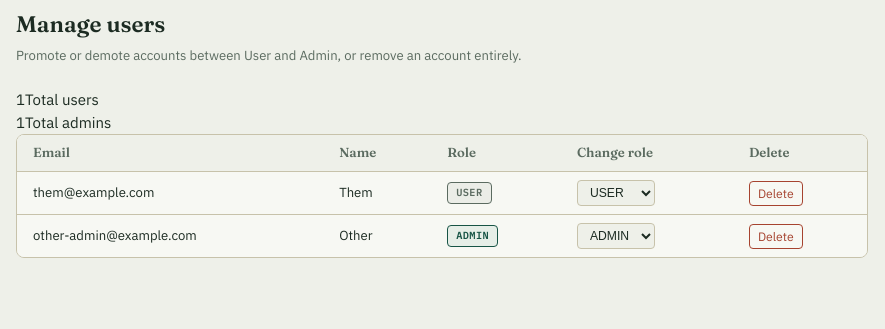
Test: AdminUsersComponent › shows an error message when the role update fails
Select "ADMIN" in the dropdown in the row of "them@example.com": [616, 193] box [577,180,655,206]
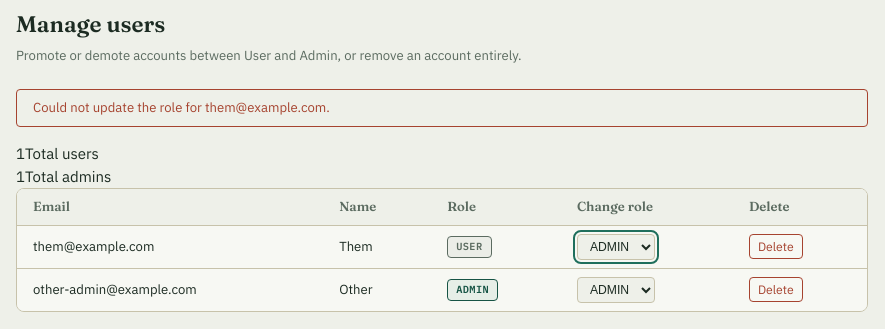
Expected: the message shows "Could not update", [33,99,330,116]
